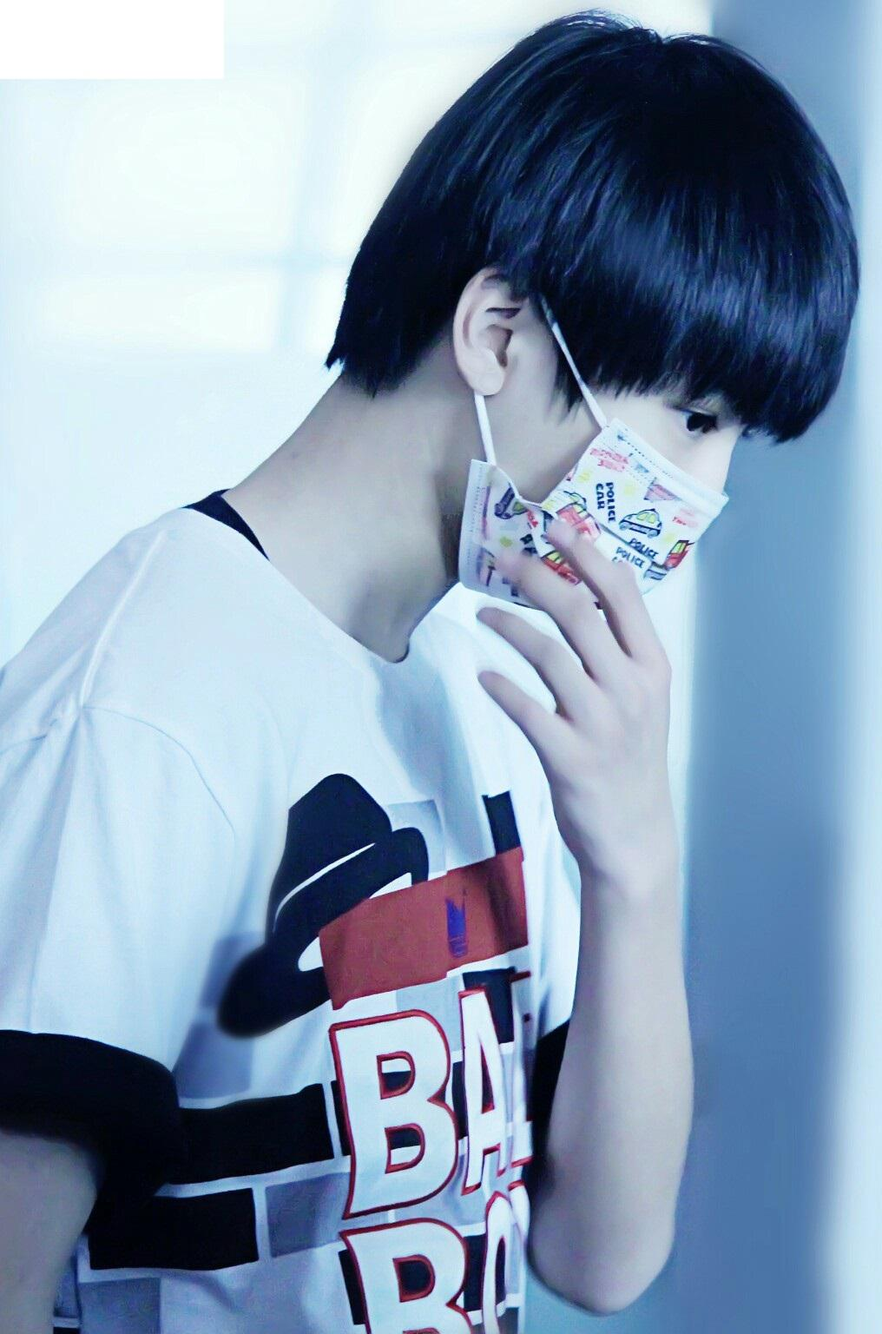OK: (462, 368, 757, 620)
